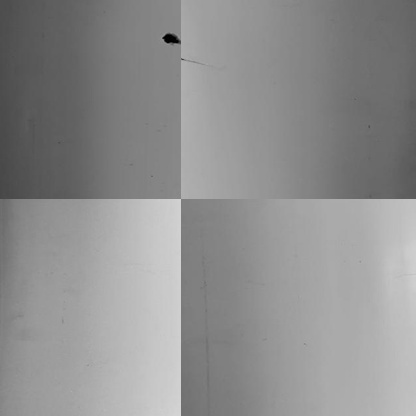kongdong: (162, 31, 181, 46)
